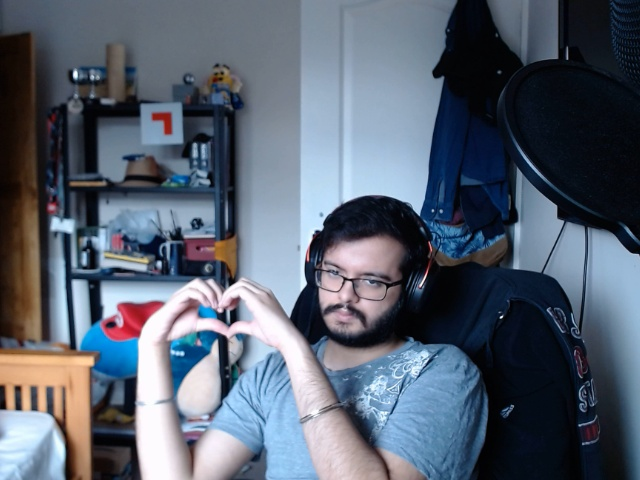Heart: (152, 270, 279, 344)
